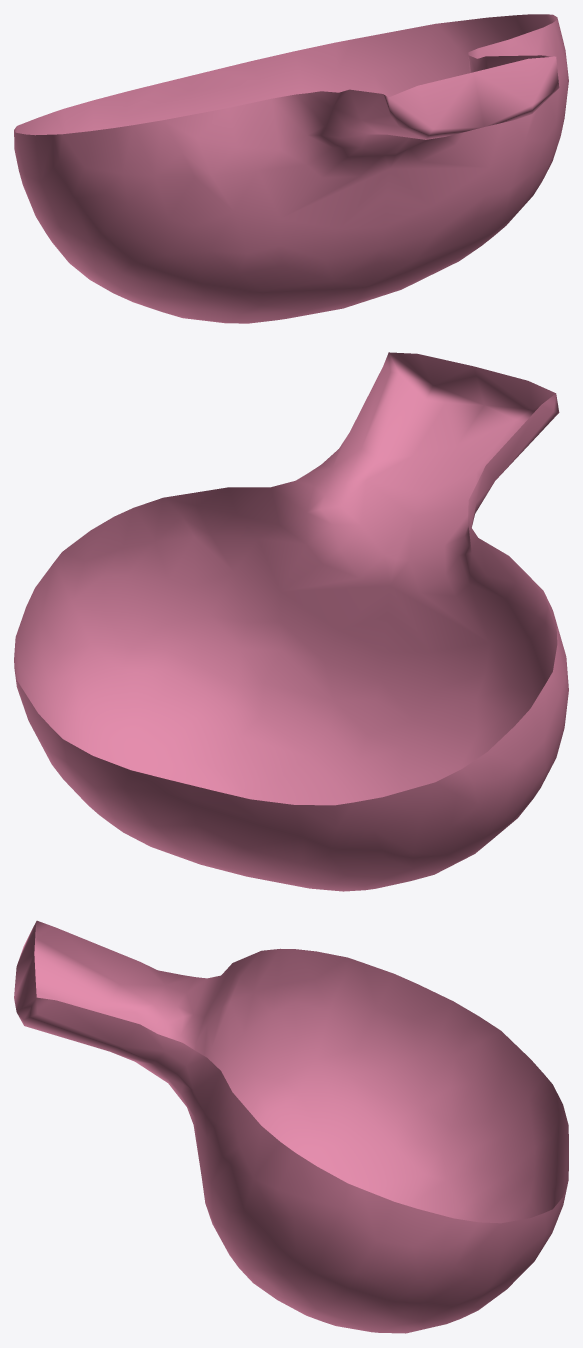
The picture shows the model from 3 angles, top to bottom: view 1: azimuth 30°, elevation 25°; view 2: azimuth 150°, elevation 25°; view 3: azimuth 270°, elevation 25°; orthographic projection. The views are drawn at different scales.
Parts seen in each view (by area): view 1: 腺垂体; view 2: 腺垂体; view 3: 腺垂体.
Boxes of the visible parts, <box> form: 腺垂体: <box>14,14,568,323</box>; 腺垂体: <box>14,352,568,891</box>; 腺垂体: <box>14,920,568,1333</box>.
Size of the model in its own units: 0.0175 by 0.0119 by 0.0178.
